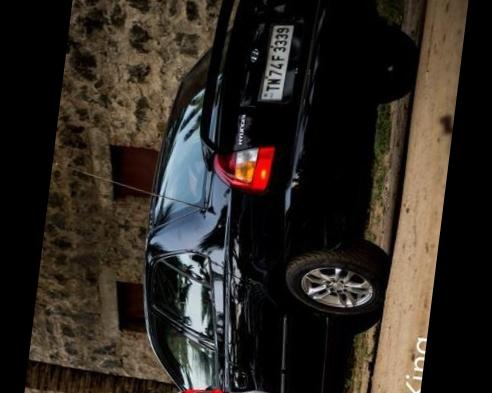plate: (251, 9, 306, 113)
